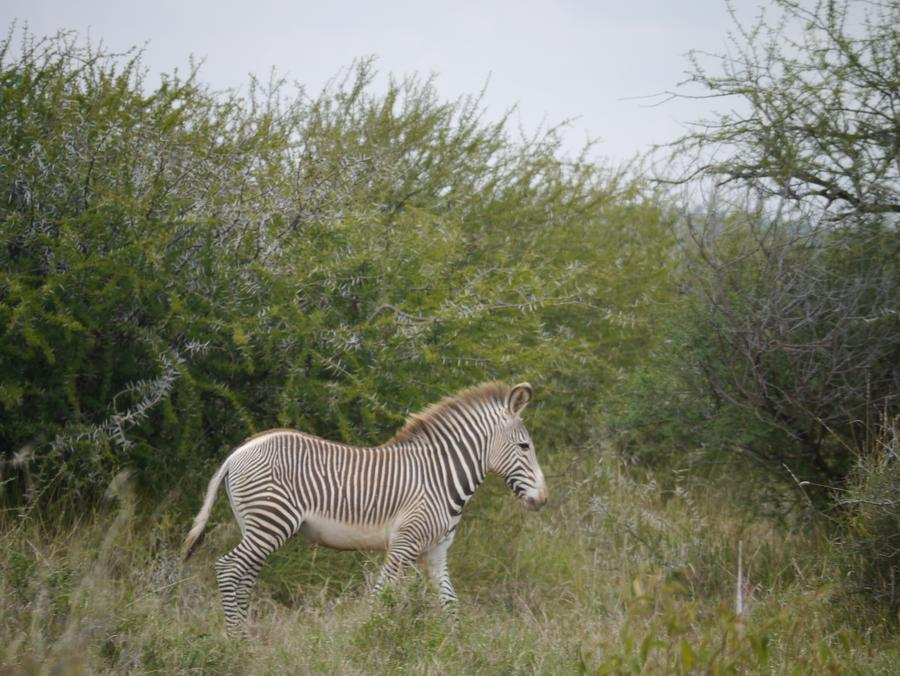zebra_grevys: (218, 423, 448, 552)
